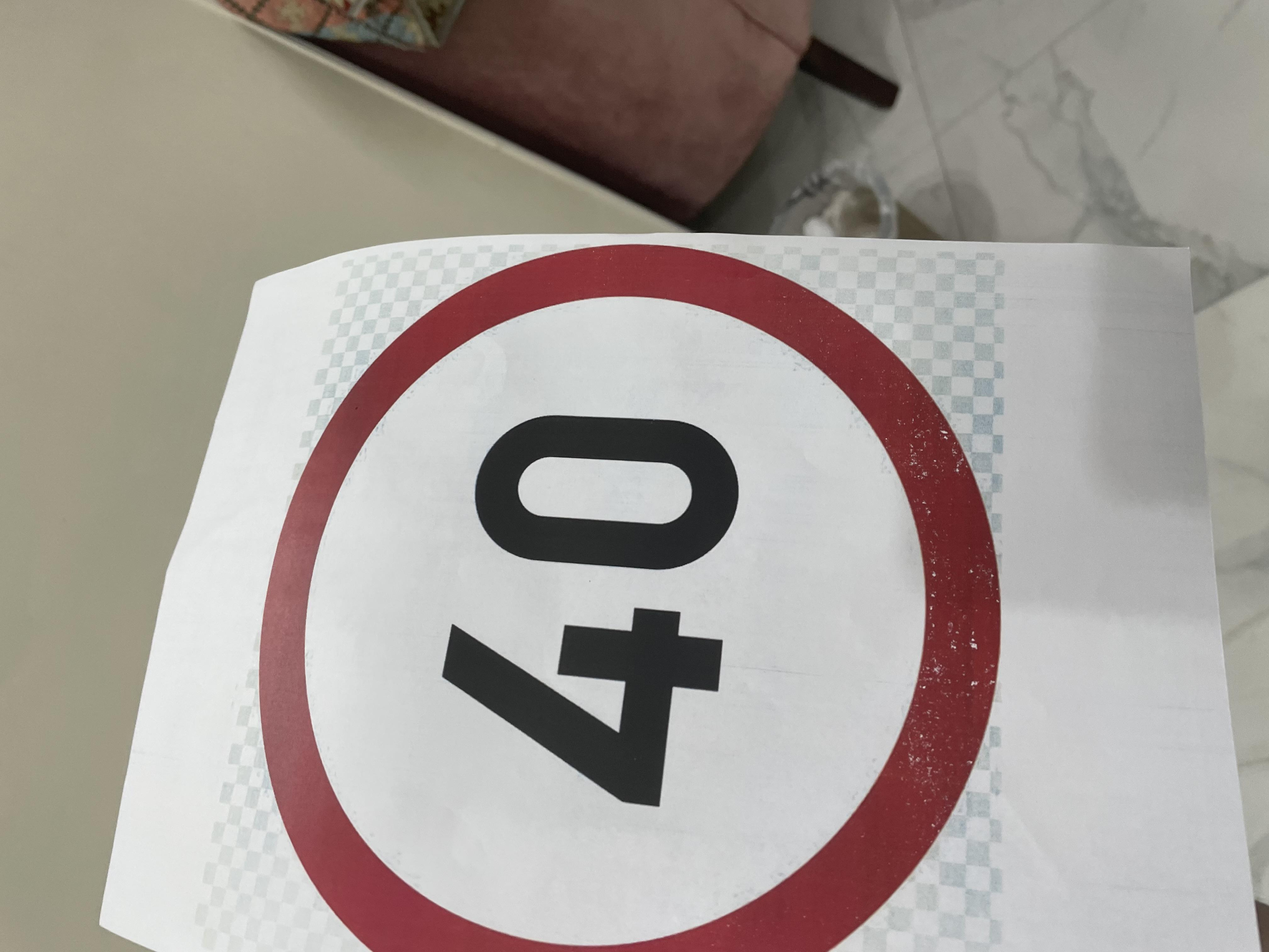40-Speed: (5, 168, 952, 757)
